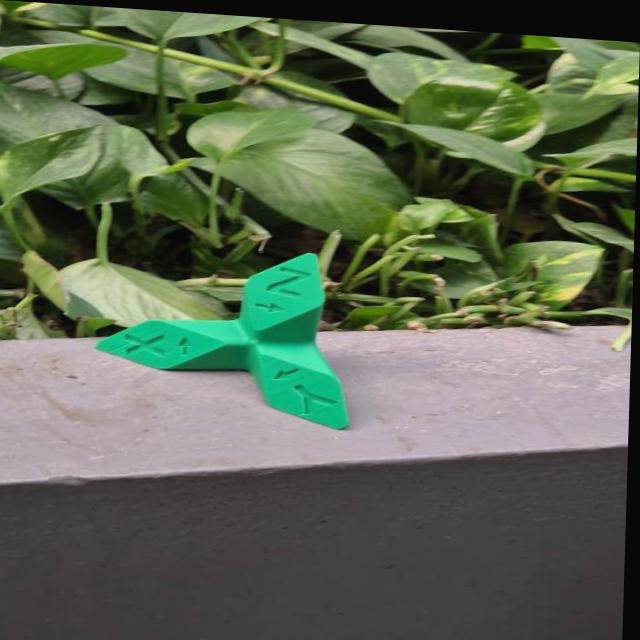eje: (88, 237, 358, 433)
